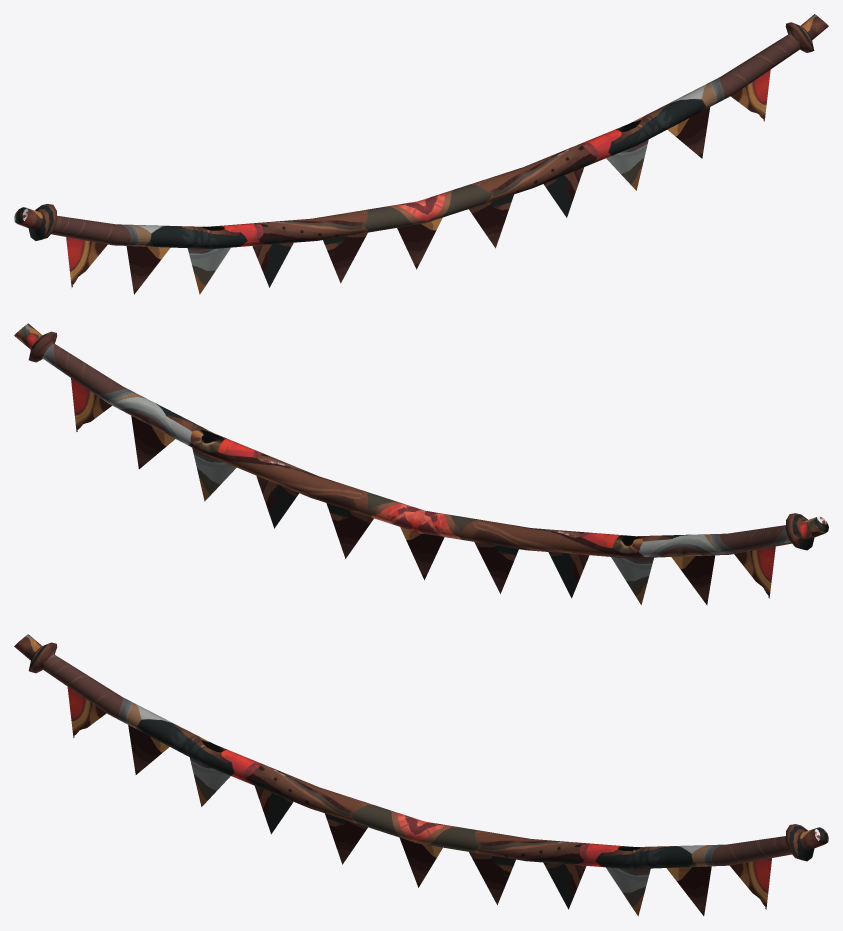
File: vimpel.fbx
3 views of the same model, one above another, from view 1: azimuth 30°, elevation 25°; view 2: azimuth 150°, elevation 25°; view 3: azimuth 330°, elevation 25° (orthographic).
Parts seen in each view (by area): view 1: vimpel; view 2: vimpel; view 3: vimpel.
Part boxes in pixels (left/top/right/bottom): vimpel: left=14, top=14, right=828, bottom=294; vimpel: left=14, top=323, right=828, bottom=605; vimpel: left=14, top=634, right=828, bottom=916.
Size of the model in its own units: 16.86 by 3.14 by 0.6424.
1 material, 1 textured.
